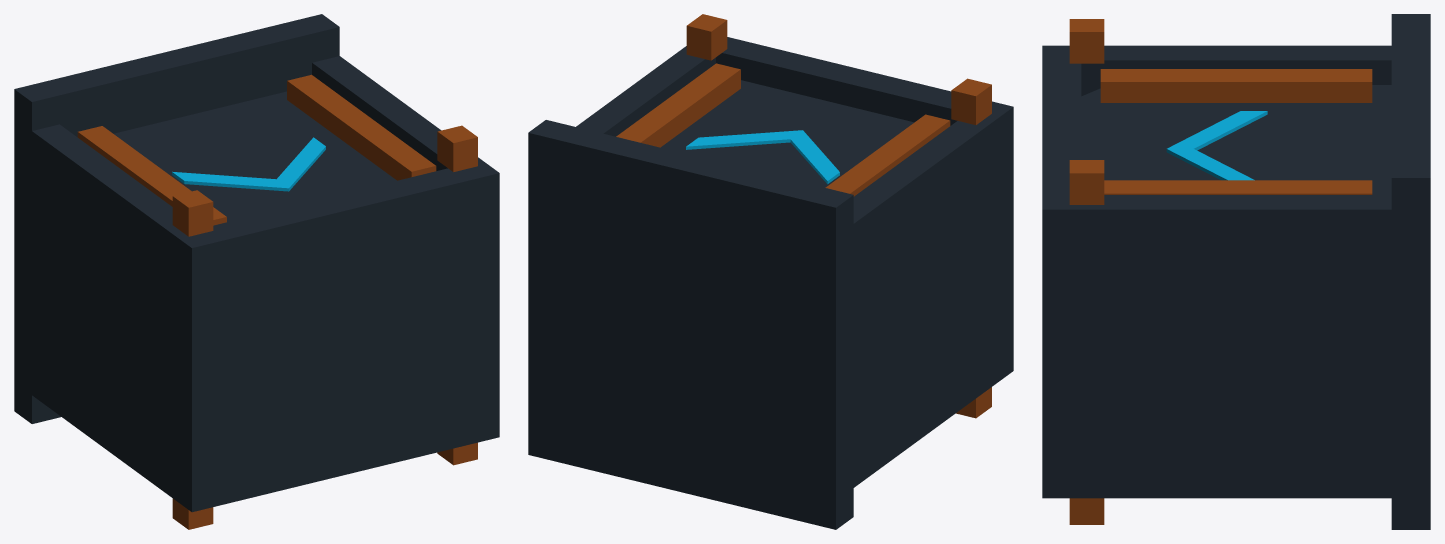
Rendered from SM_CoverModule.obj.
3 renders of one model, left to right at view 1: azimuth 30°, elevation 25°; view 2: azimuth 150°, elevation 25°; view 3: azimuth 270°, elevation 25°, orthographic. The views are drawn at different scales.
Parts seen in each view (by area): view 1: SM_CoverModule_Metal, SM_CoverModule_Copper, SM_CoverModule_Glow; view 2: SM_CoverModule_Metal, SM_CoverModule_Copper, SM_CoverModule_Glow; view 3: SM_CoverModule_Metal, SM_CoverModule_Copper, SM_CoverModule_Glow.
Part boxes in pixels (left/top/right/bottom): SM_CoverModule_Metal: left=14, top=14, right=499, bottom=512; SM_CoverModule_Copper: left=77, top=74, right=477, bottom=529; SM_CoverModule_Glow: left=172, top=137, right=325, bottom=191; SM_CoverModule_Metal: left=528, top=37, right=1013, bottom=529; SM_CoverModule_Copper: left=616, top=14, right=991, bottom=418; SM_CoverModule_Glow: left=686, top=130, right=839, bottom=184; SM_CoverModule_Metal: left=1042, top=14, right=1430, bottom=529; SM_CoverModule_Copper: left=1069, top=19, right=1372, bottom=524; SM_CoverModule_Glow: left=1166, top=111, right=1267, bottom=180.
Size of the model in its own units: 100 by 100 by 100.
